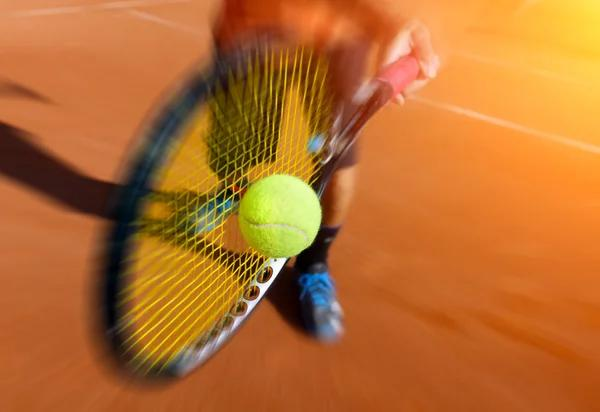ball_tennis: (241, 174, 325, 261)
